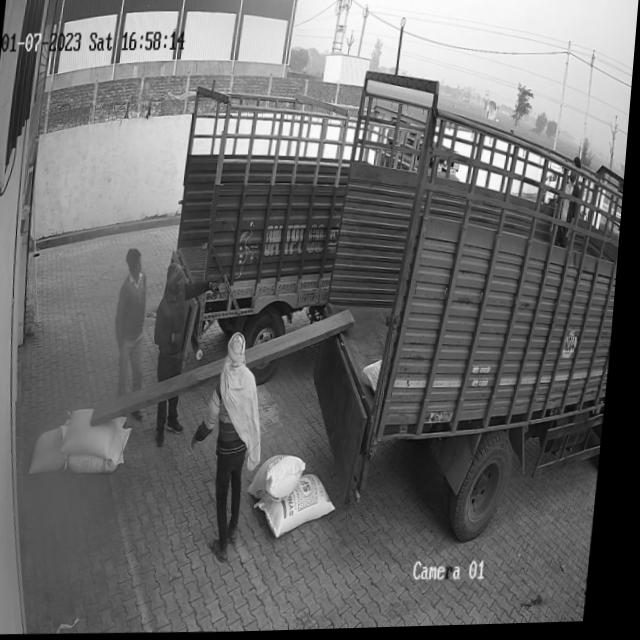sack: (259, 472, 347, 541), (67, 408, 133, 459), (71, 428, 138, 476), (255, 454, 313, 505), (34, 424, 77, 475)
